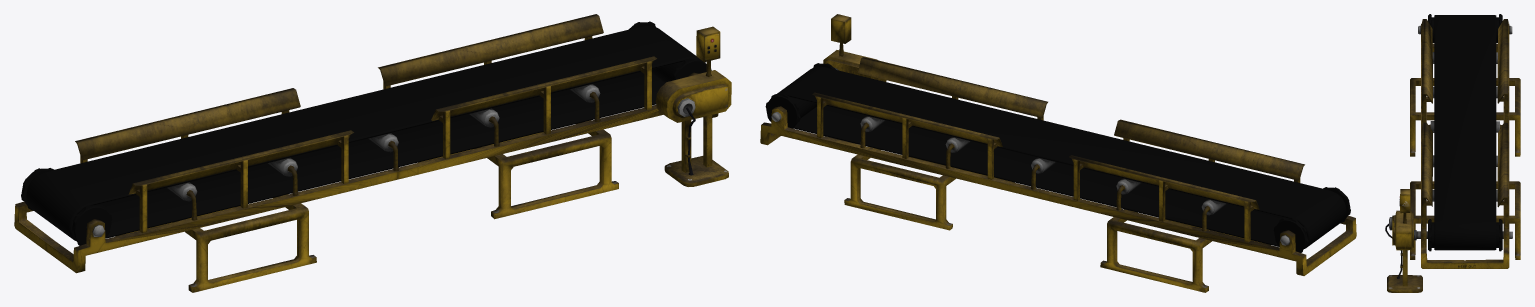
The model's file is AM_Convenyer.fbx.
3 renders of one model, left to right at view 1: azimuth 30°, elevation 25°; view 2: azimuth 150°, elevation 25°; view 3: azimuth 270°, elevation 25°, orthographic. The views are drawn at different scales.
Visible parts, largest first — view 1: Cylinder.003, Cube.007, Cylinder.002, Cylinder; view 2: Cylinder.003, Cube.007, Cylinder, Cylinder.002; view 3: Cylinder.003, Cube.007, Cylinder, Cylinder.002.
Part boxes in pixels (left/top/right/bottom): Cylinder.003: left=26, top=25, right=698, bottom=240; Cube.007: left=14, top=14, right=731, bottom=292; Cylinder.002: left=21, top=168, right=112, bottom=245; Cylinder: left=629, top=21, right=711, bottom=82; Cylinder.003: left=776, top=66, right=1346, bottom=248; Cube.007: left=760, top=14, right=1356, bottom=292; Cylinder: left=765, top=63, right=835, bottom=128; Cylinder.002: left=1273, top=187, right=1350, bottom=252; Cylinder.003: left=1434, top=15, right=1496, bottom=250; Cube.007: left=1385, top=19, right=1520, bottom=292; Cylinder: left=1428, top=219, right=1502, bottom=251; Cylinder.002: left=1428, top=14, right=1502, bottom=42.
Size of the model in its own units: 636 by 132 by 166.
4 materials, 3 textured.
